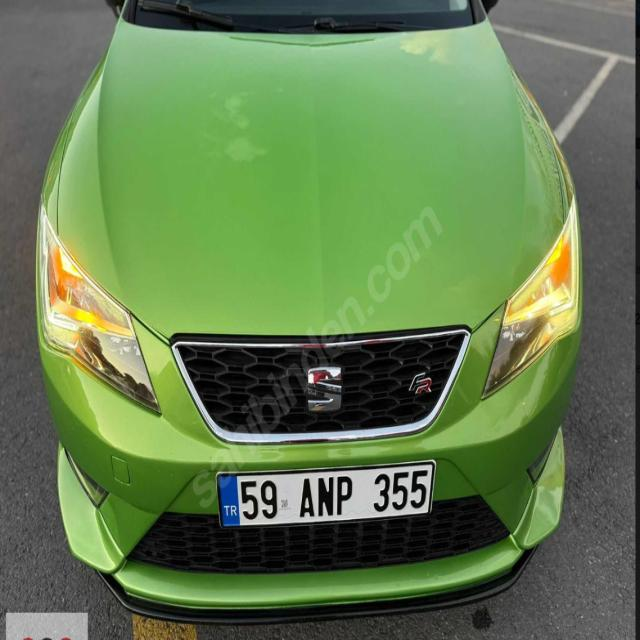seat: (304, 362, 346, 418)
